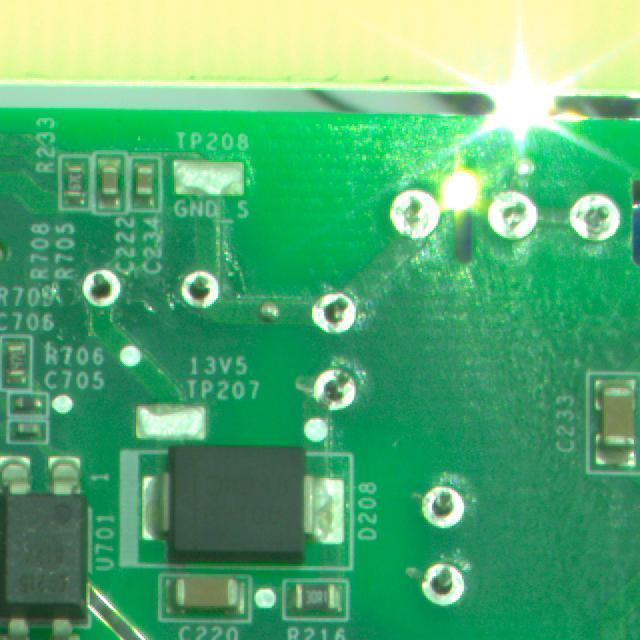Insufficient solder: (410, 556, 476, 609), (416, 479, 480, 531), (300, 362, 366, 408), (306, 293, 363, 336), (177, 265, 220, 311), (81, 265, 117, 312)
